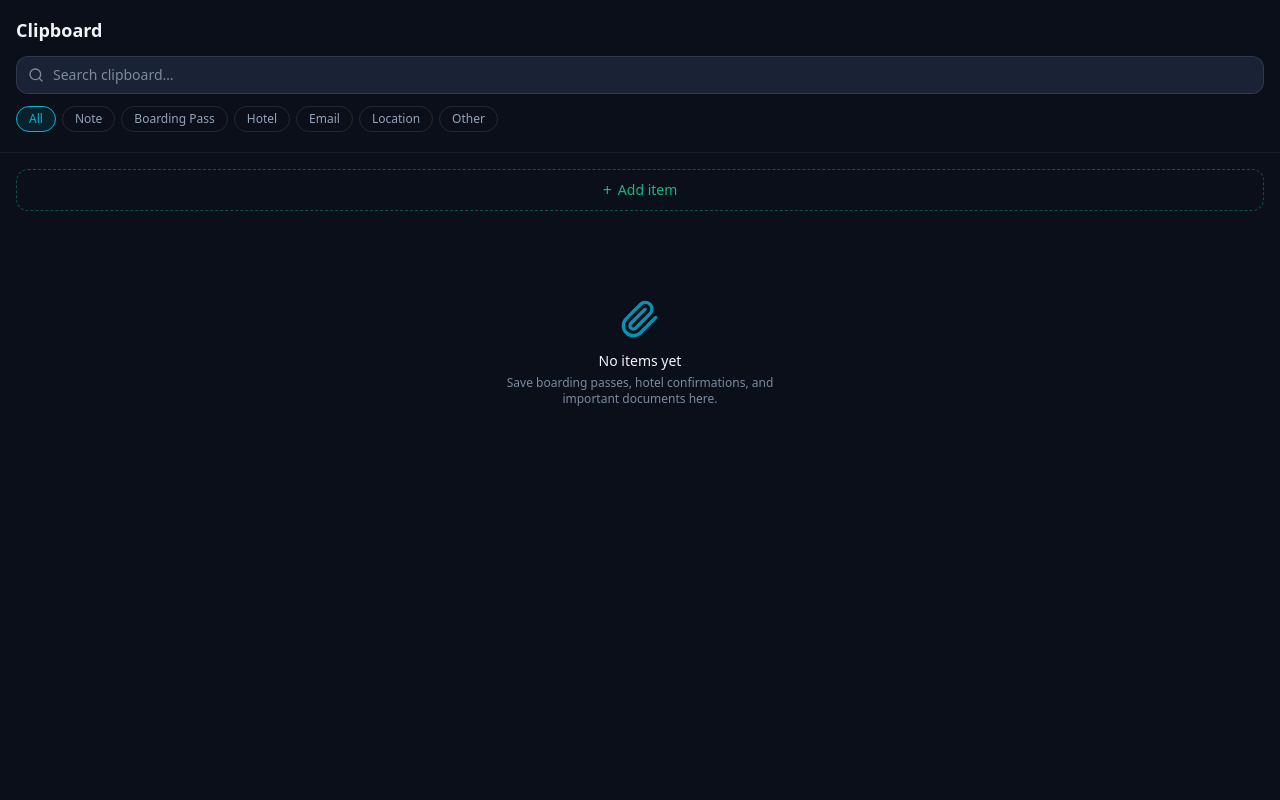
adding a clipboard item › can be abandoned
Click the button with test id "add-item-btn".
click(640, 190)  # box [16,169,1264,211]
(page scrolled)
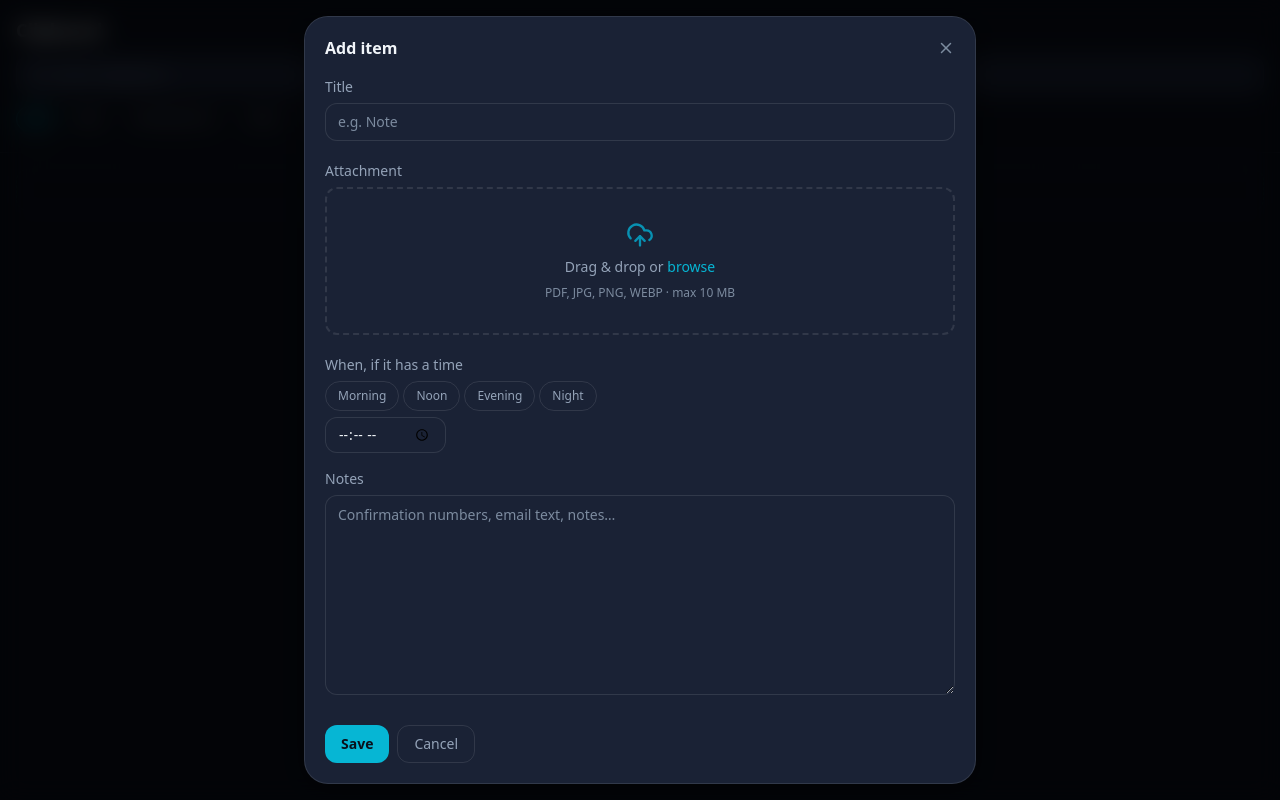
Click the button with test id "cancel-item-btn".
click(436, 744)  # box [397,725,475,763]
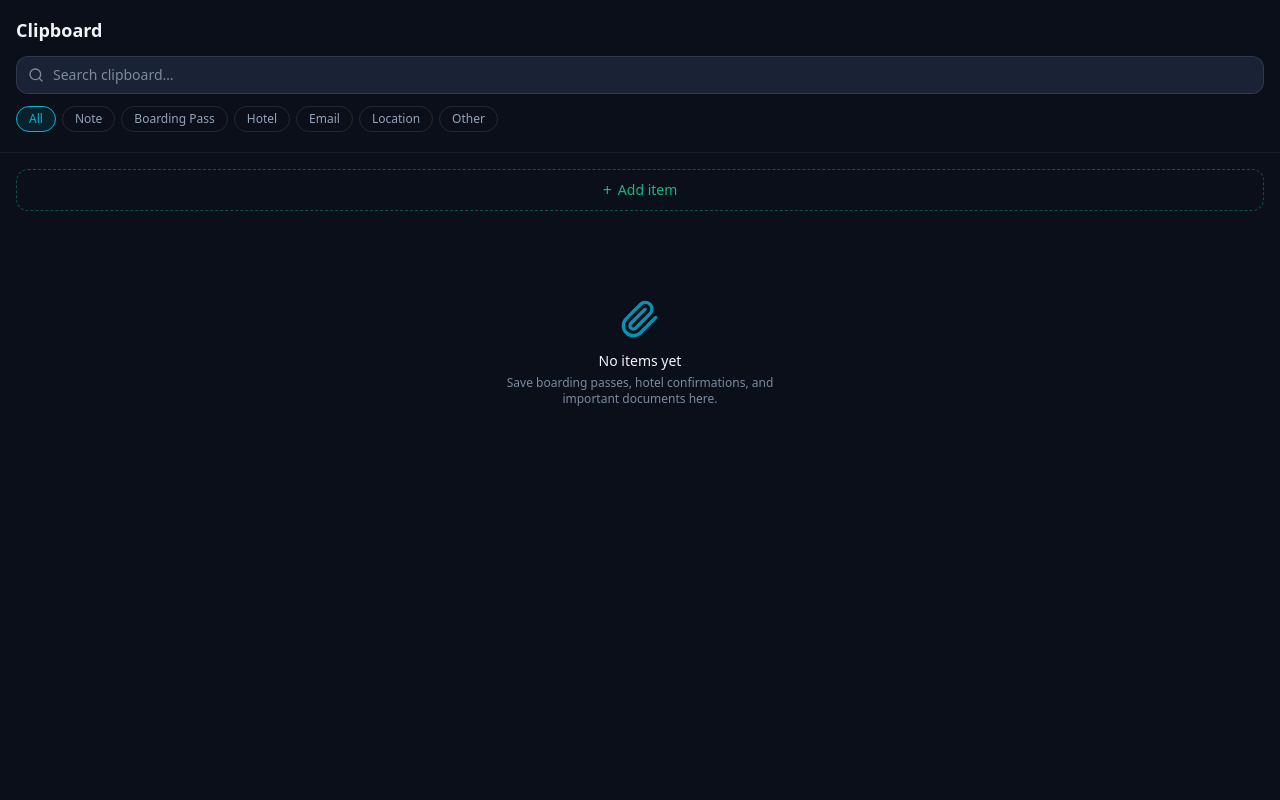
Expected: the dialog with test id "modal" is gone
